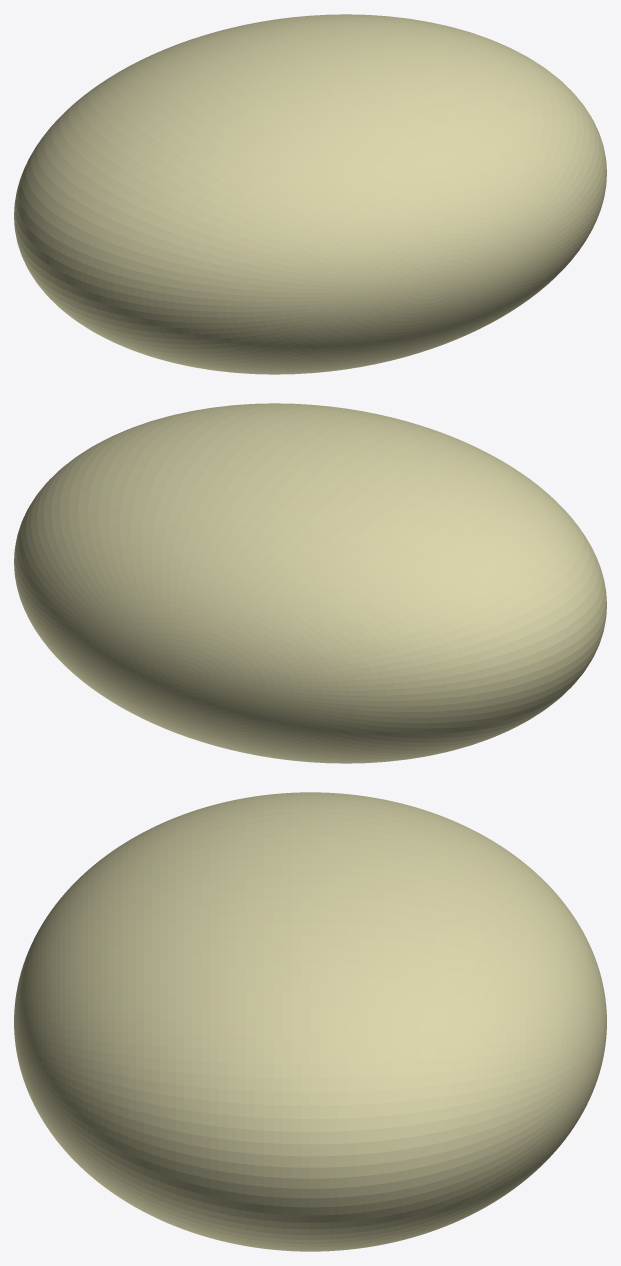
The model's file is ellipsoid.glb.
3 views of the same model, one above another, from view 1: azimuth 30°, elevation 25°; view 2: azimuth 150°, elevation 25°; view 3: azimuth 270°, elevation 25° (orthographic). The views are drawn at different scales.
Visible parts, largest first — view 1: world; view 2: world; view 3: world.
Boxes of the visible parts, left/top/right/bottom form: world: left=14, top=14, right=606, bottom=374; world: left=14, top=403, right=606, bottom=763; world: left=14, top=792, right=606, bottom=1251.
Size of the model in its own units: 20 by 10 by 16.
